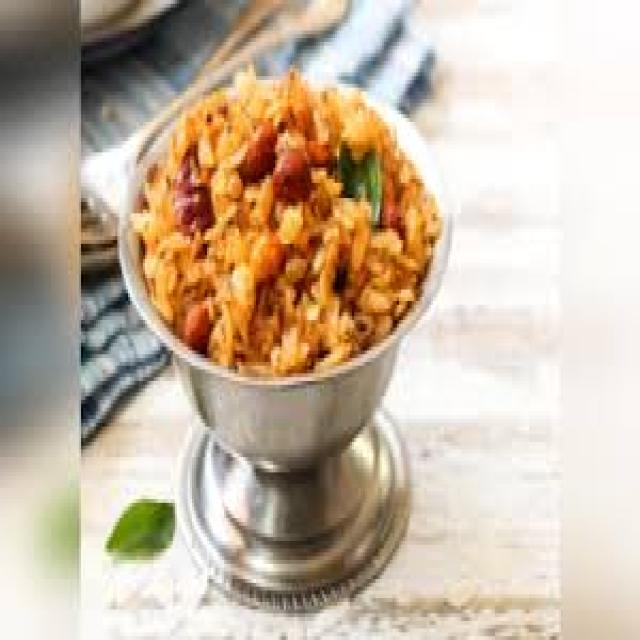POHA: (139, 72, 439, 373)
